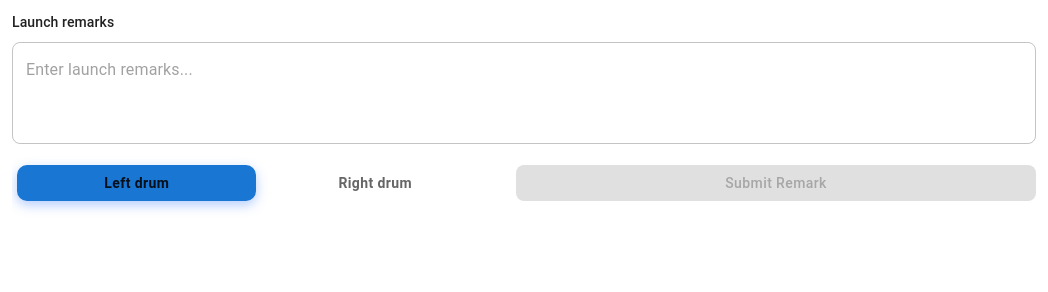
Test case: RemarksPanel › handles non-Error exception during submit
Type "Test remark" into the text box with placeholder "Enter launch remarks...".
click(524, 93); type("Test remark")  # box x1=26 y1=58 x2=1022 y2=128
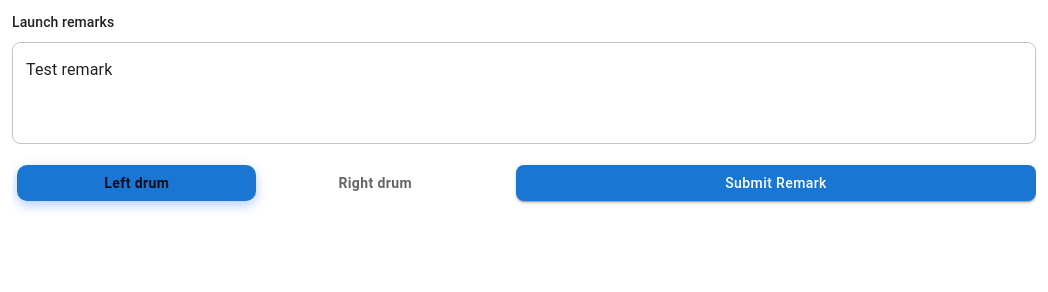
Click the button "Submit Remark".
click(776, 183)  # box x1=516 y1=165 x2=1036 y2=202
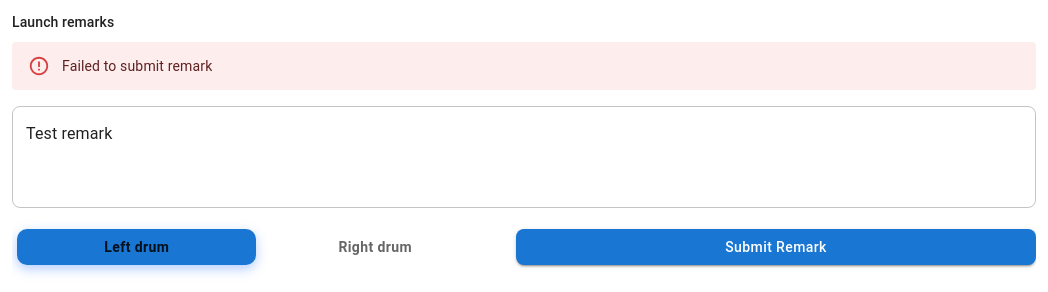
expect the text "Failed to submit remark" is shown: met, box x1=62 y1=58 x2=212 y2=74
